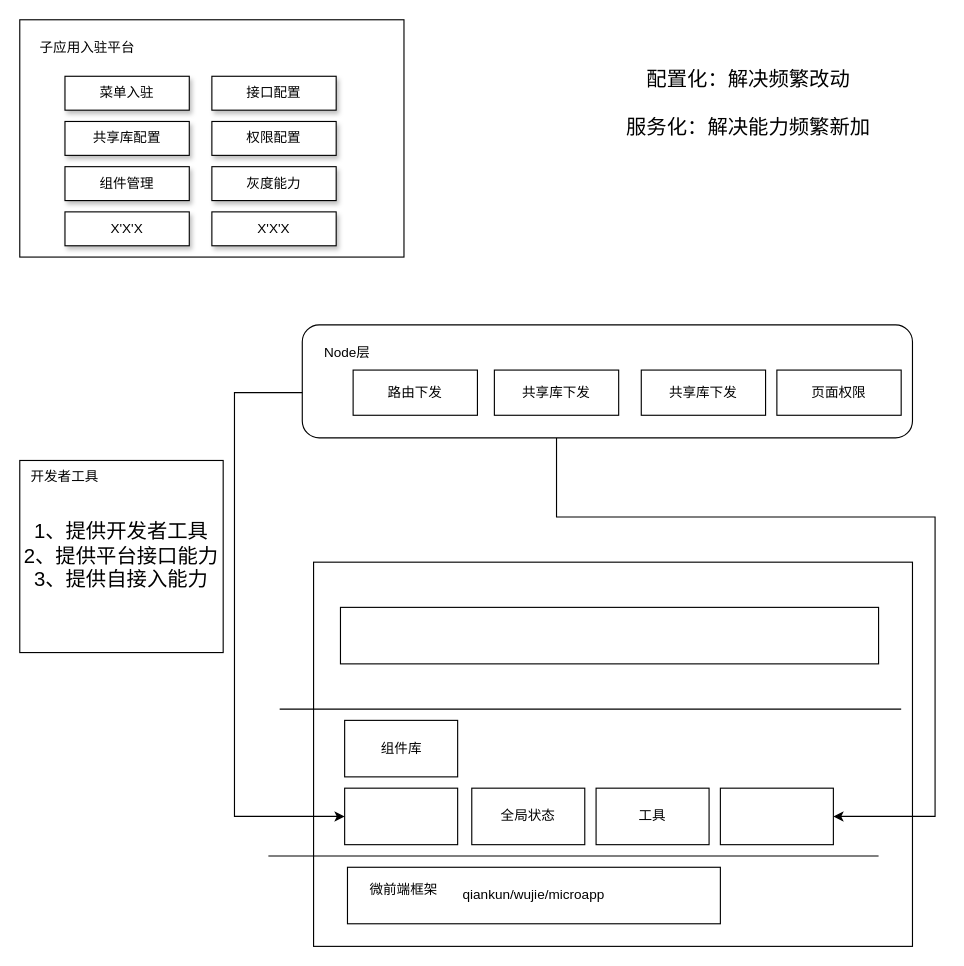
Some shapes in this 964 by 966 pixel diagram are drawn without their labels. Each missing label, with the centre of its shape:
应用共享: the point at 776,816
管理后台框架: the point at 609,635
路由注册: the point at 401,816
